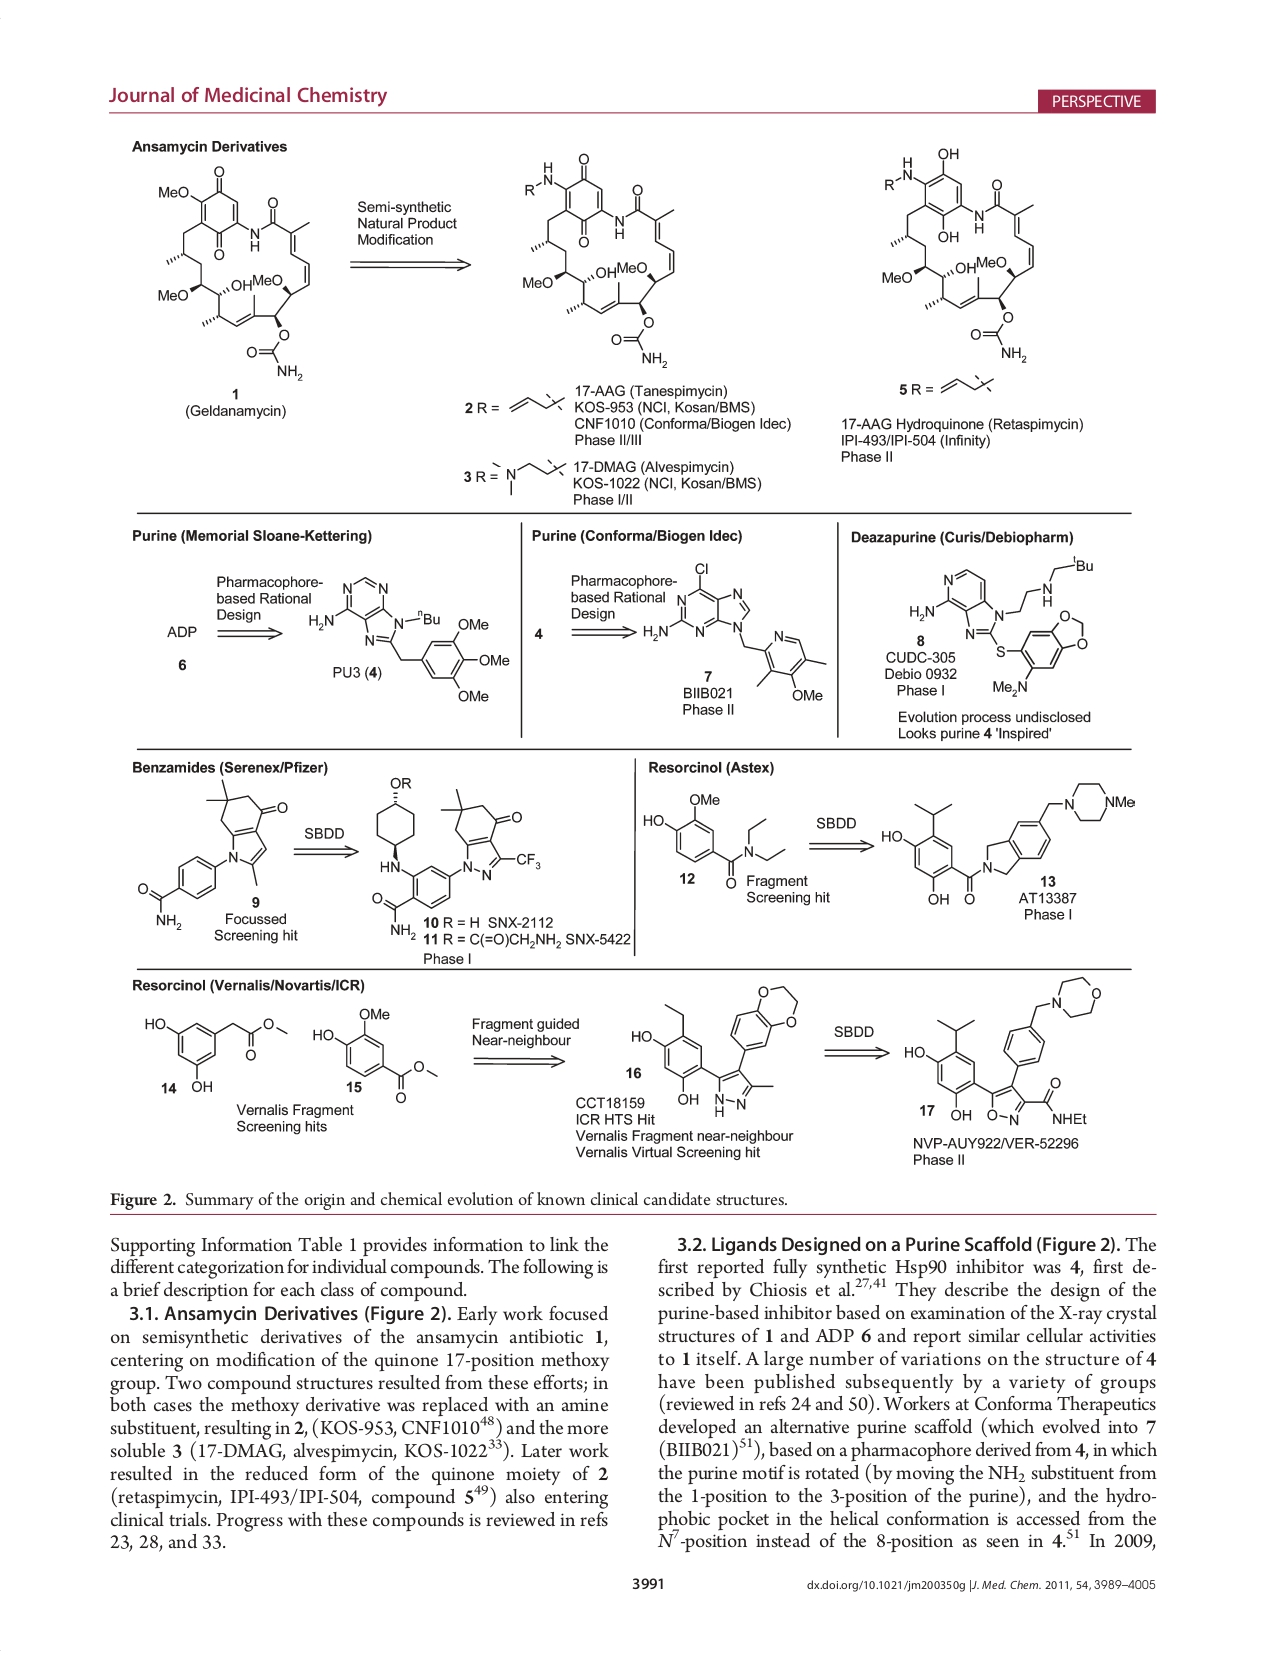exist_molecular: (521, 150, 680, 371), (878, 146, 1037, 363), (157, 164, 313, 382), (880, 781, 1136, 908), (902, 975, 1102, 1129), (368, 774, 541, 942), (908, 555, 1097, 697), (306, 575, 513, 704), (642, 561, 828, 704), (134, 777, 289, 932), (630, 983, 801, 1118), (641, 793, 787, 892), (309, 1005, 439, 1105), (141, 1013, 289, 1094), (489, 457, 570, 497), (936, 371, 999, 398), (505, 388, 568, 414)
